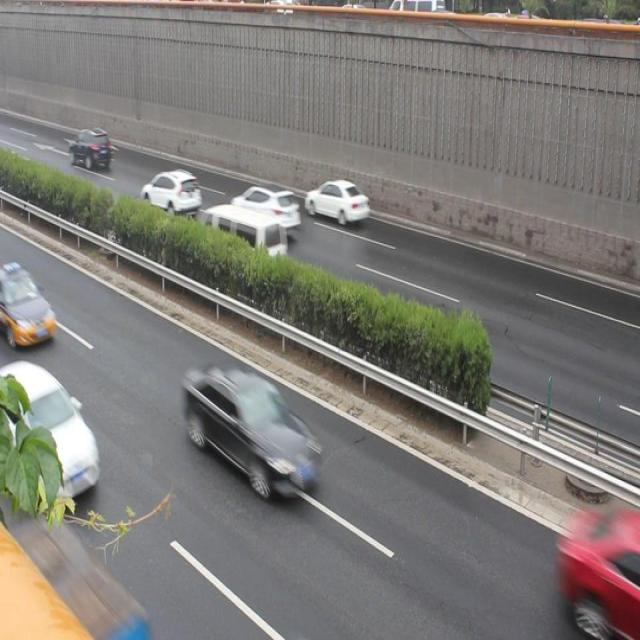car: (178, 360, 319, 490), (1, 354, 98, 496), (1, 260, 62, 350), (230, 177, 301, 233), (302, 174, 368, 225), (139, 168, 200, 218), (67, 123, 114, 171)
truck: (203, 200, 285, 267)
